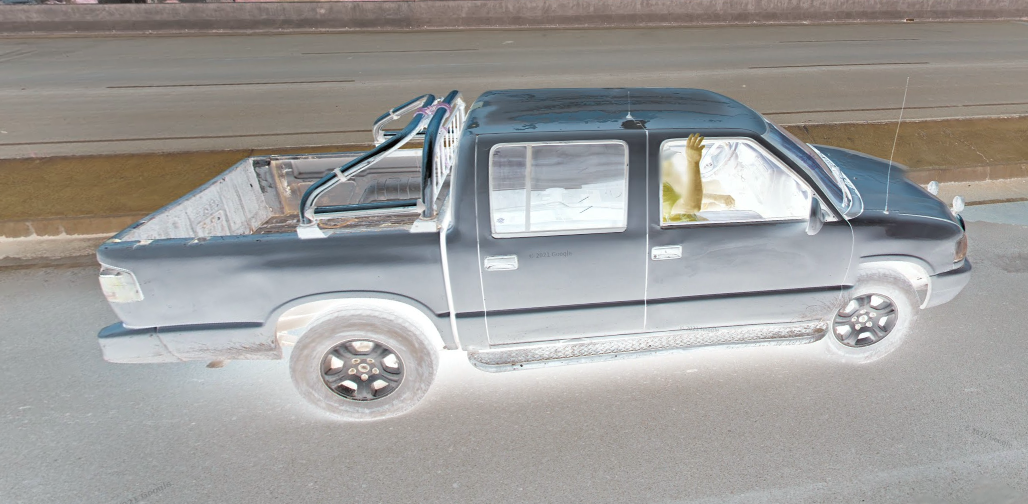car: (98, 77, 975, 423)
